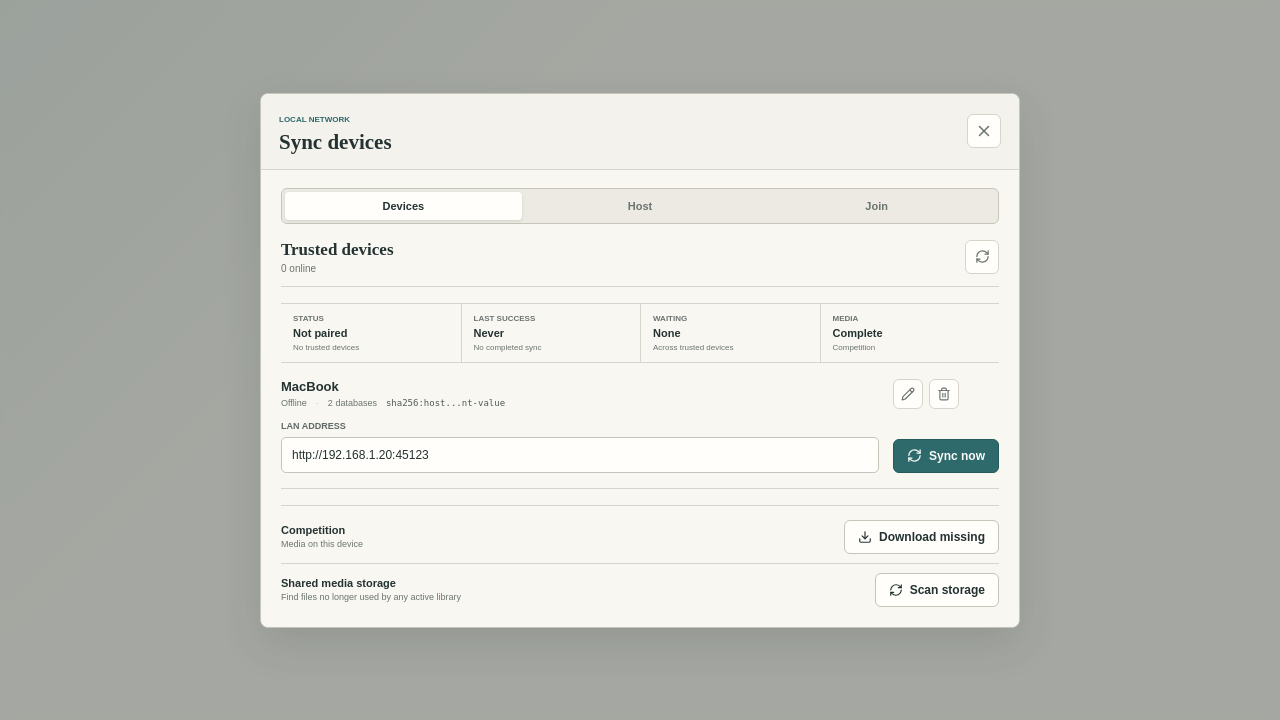
it: sync dialog › pauses a running media download
The width and height of the screenshot is (1280, 720).
Click the button "Download missing". click: (922, 536)
box: [844,520,999,554]
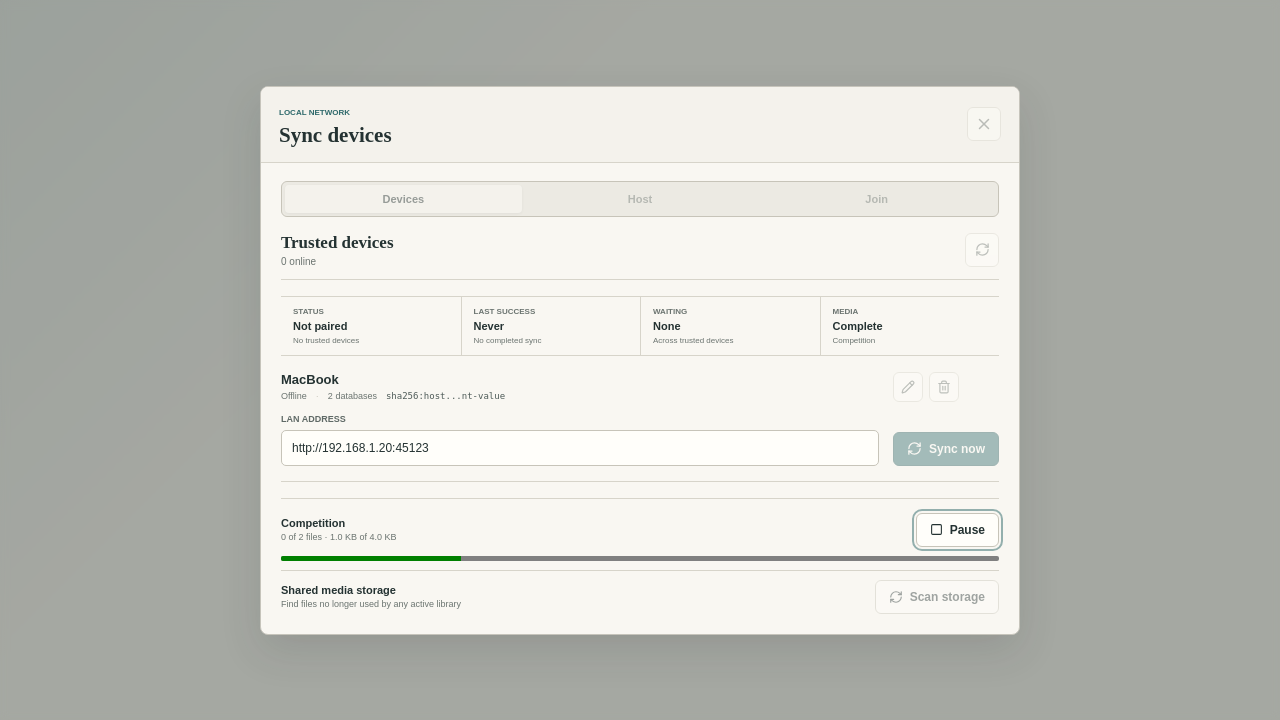
Click the button "Pause". click: (957, 530)
box: [916,512,999,546]
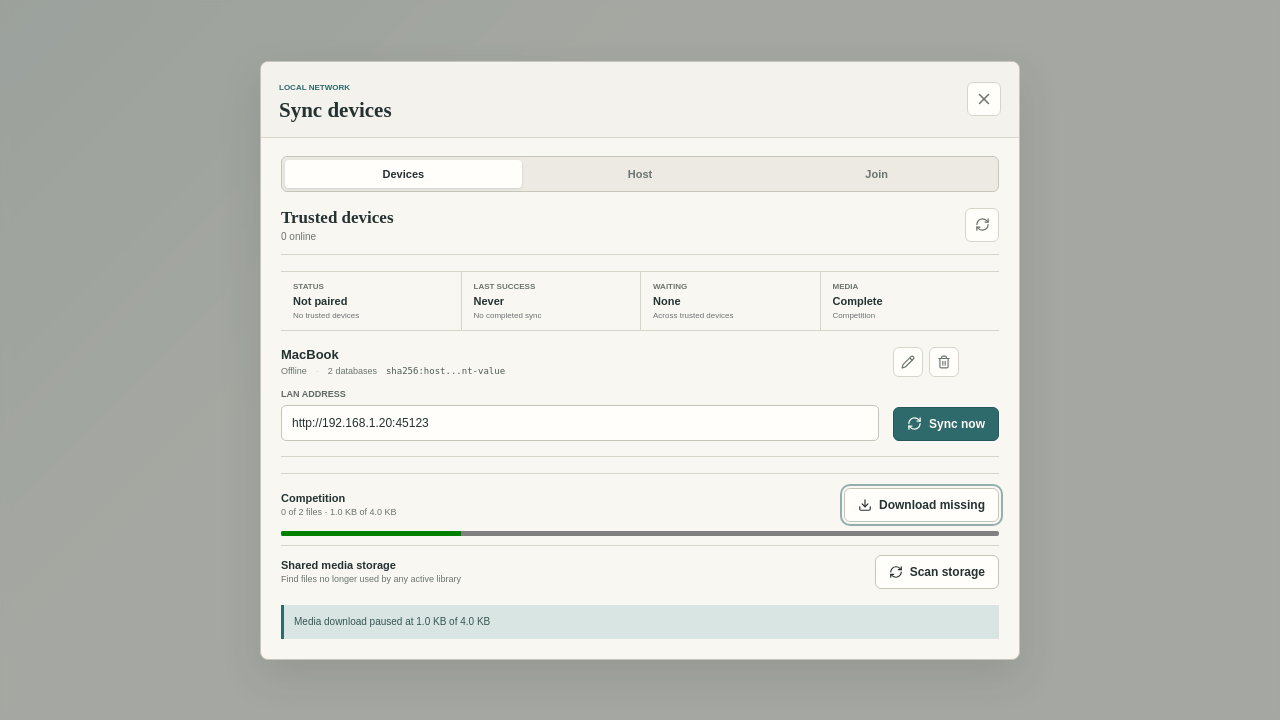
Now the text "Media download paused at 1.0 KB of 4.0 KB" is shown, box [294,616,490,627]
